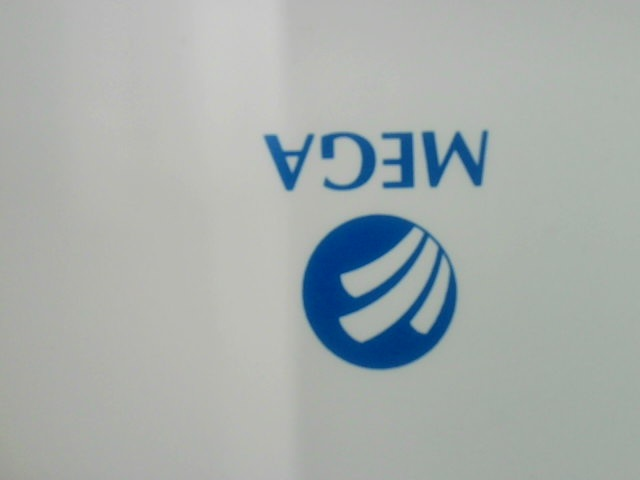AM_ZTEMEGA: (249, 110, 529, 383)
